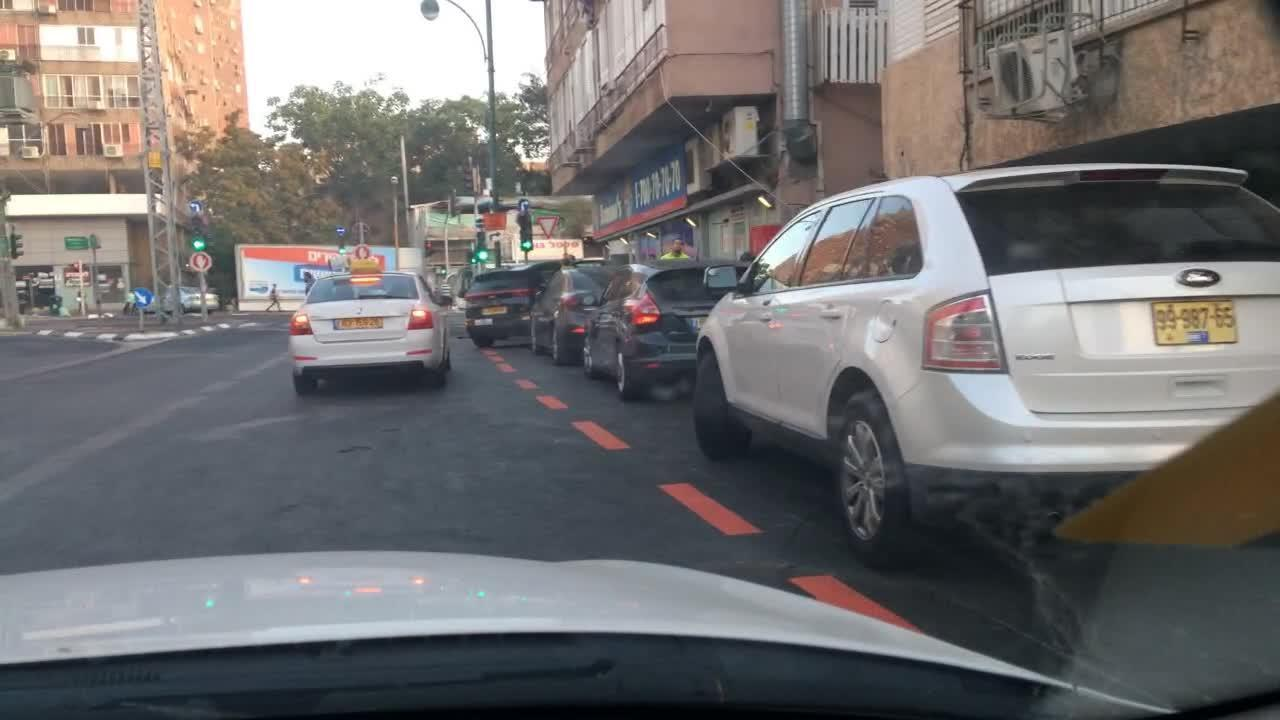ford: (1170, 264, 1225, 293)
skoda: (351, 305, 365, 316)
